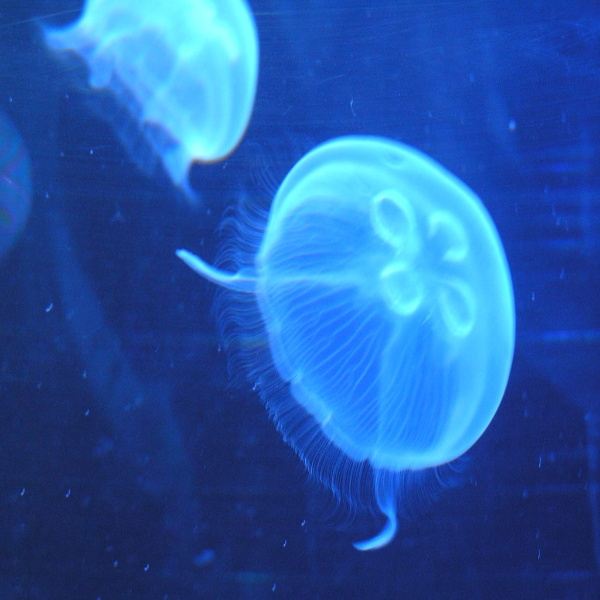Jellyfish: (176, 129, 517, 554), (29, 0, 260, 210)
